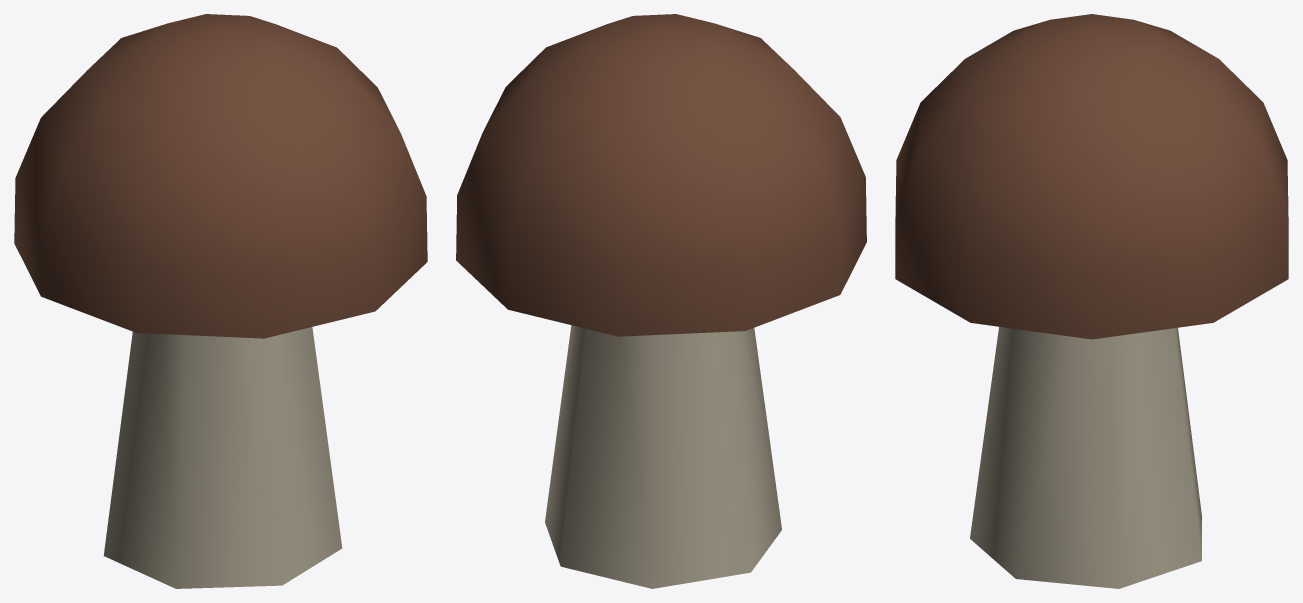
File: mushroom.glb
The picture shows the model from 3 angles, left to right: view 1: azimuth 30°, elevation 25°; view 2: azimuth 150°, elevation 25°; view 3: azimuth 270°, elevation 25°; orthographic projection.
Parts seen in each view (by area): view 1: mushroom; view 2: mushroom; view 3: mushroom.
Part boxes in pixels (x1,y1,x2,y2): mushroom: (14, 14, 427, 588); mushroom: (456, 14, 866, 588); mushroom: (895, 14, 1288, 588).
Size of the model in its own units: 0.1185 by 0.16 by 0.1127.
